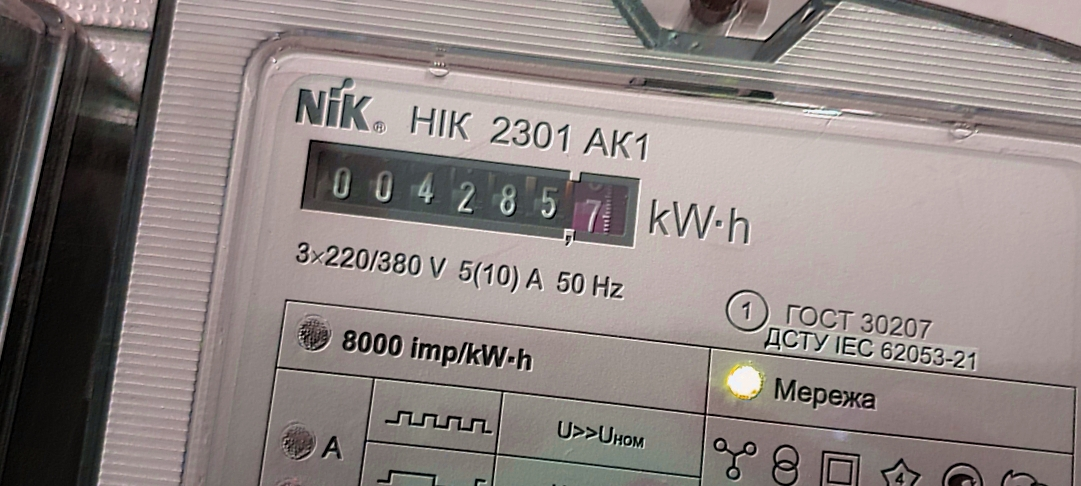0: (371, 166, 397, 205), (329, 162, 355, 200)
2: (454, 177, 478, 215)
4: (416, 168, 437, 205)
5: (536, 182, 561, 220)
7: (579, 195, 603, 234)
8: (494, 179, 520, 219)
screen: (283, 120, 658, 268)
